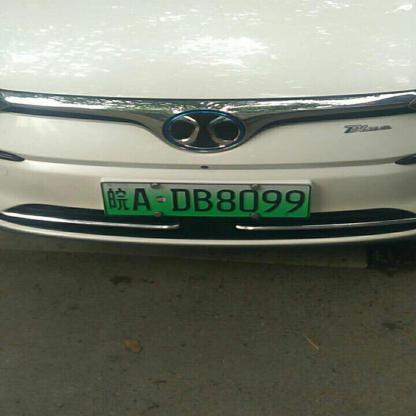lp: (100, 182, 311, 218)
